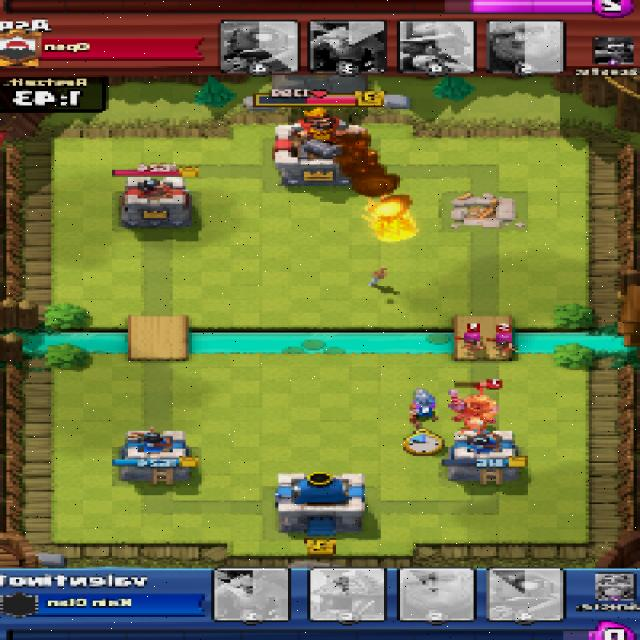Enemy-Archer: (484, 333, 516, 356), (460, 330, 489, 354)
Enemy-Fireball: (364, 202, 419, 240)
Enemy-Prince: (444, 387, 500, 431)
Player-Musketeer: (404, 389, 441, 428)
